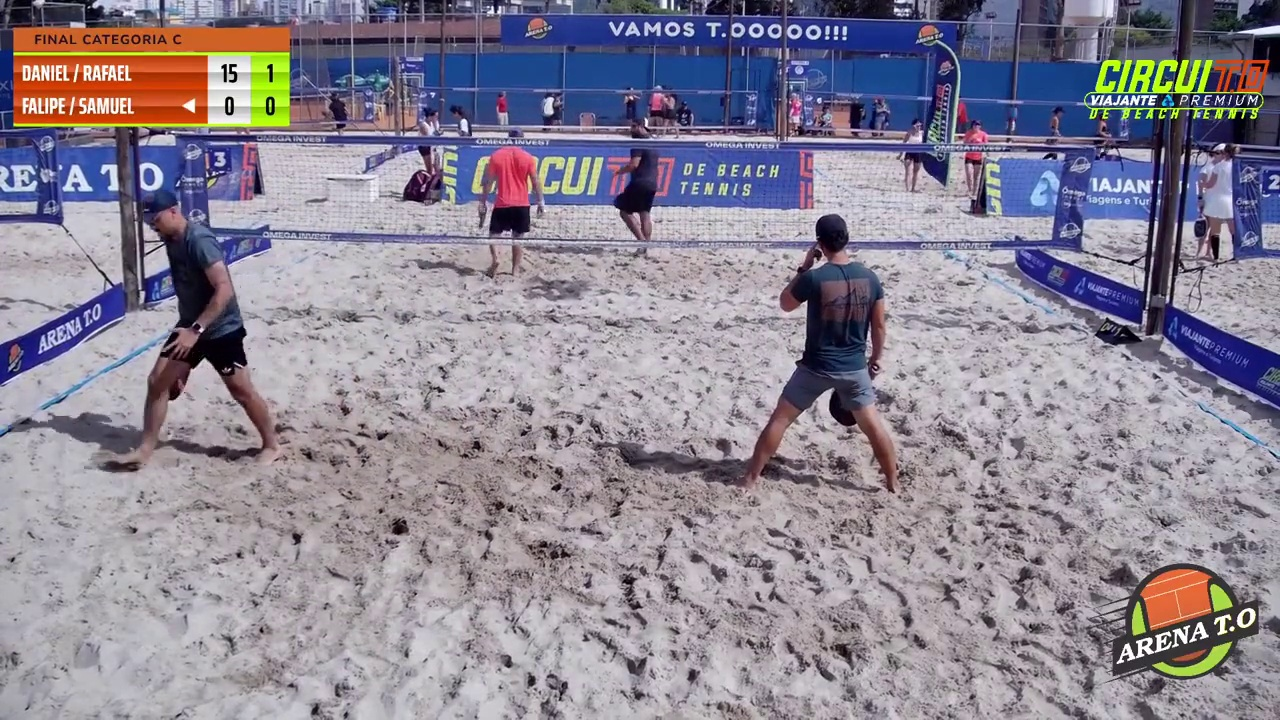court_line: (442, 0, 576, 514)
